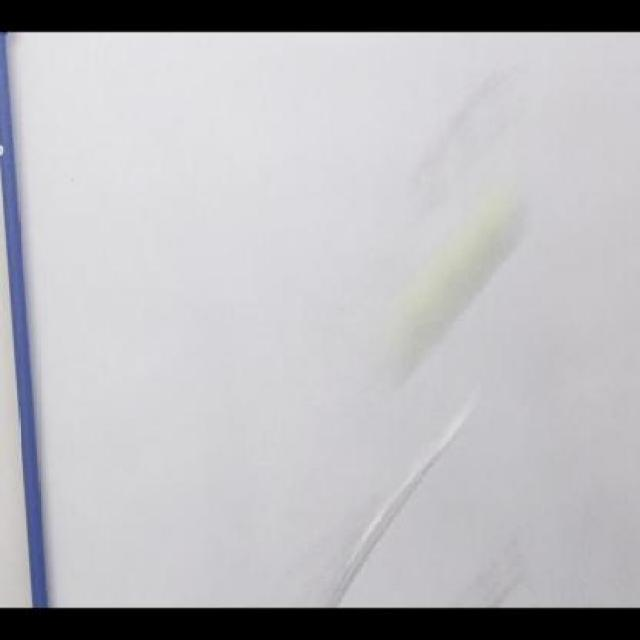baseball: (392, 186, 538, 379)
